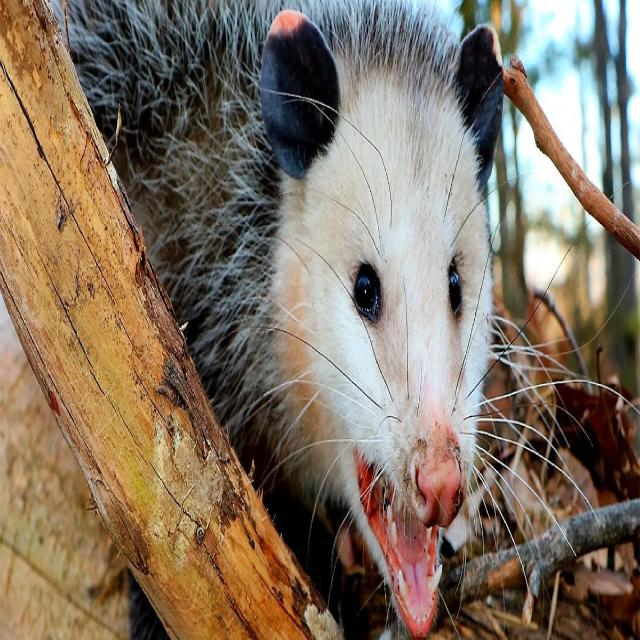Possum: (64, 1, 506, 633)
